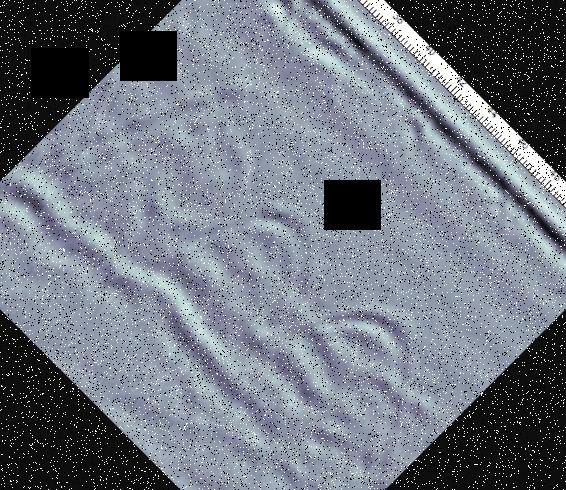Hyperbola: (258, 241, 490, 472), (173, 154, 370, 351), (363, 90, 451, 178), (227, 0, 324, 63), (452, 176, 528, 253)
